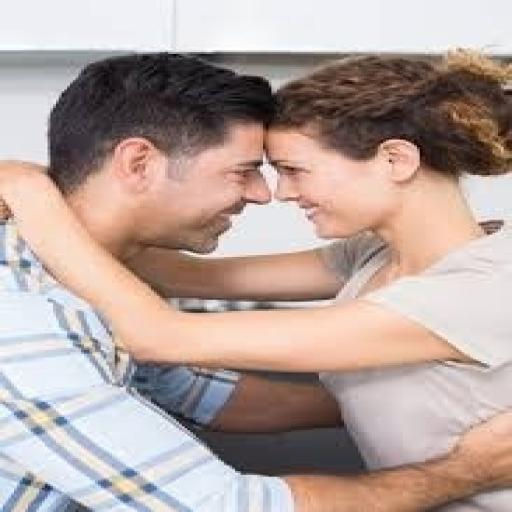hugging: (0, 49, 509, 510)
